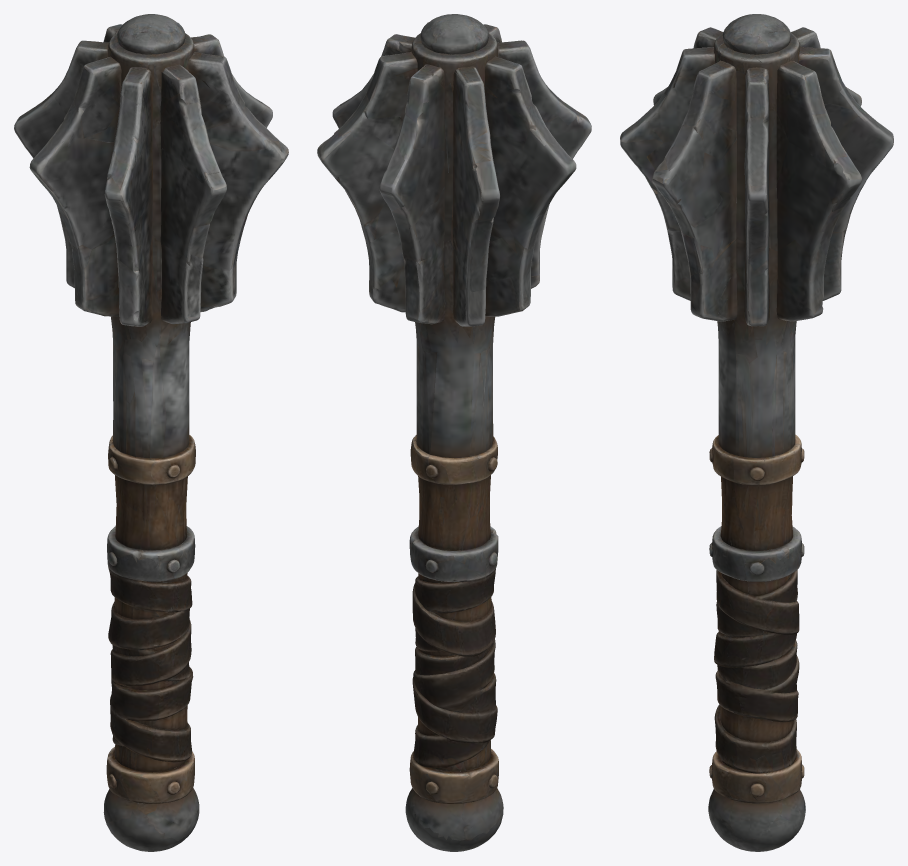
Rendered from mace.glb.
3 views of the same model, side by side, from view 1: azimuth 30°, elevation 25°; view 2: azimuth 150°, elevation 25°; view 3: azimuth 270°, elevation 25° (orthographic).
Parts seen in each view (by area): view 1: Mesh_0; view 2: Mesh_0; view 3: Mesh_0.
Part boxes in pixels (x1,y1,x2,y2): Mesh_0: (14, 14, 288, 851); Mesh_0: (317, 14, 591, 851); Mesh_0: (620, 14, 893, 851).
Bounding box in the file's own units: 0.2249 × 0.75 × 0.2248.
1 material, 1 textured.
